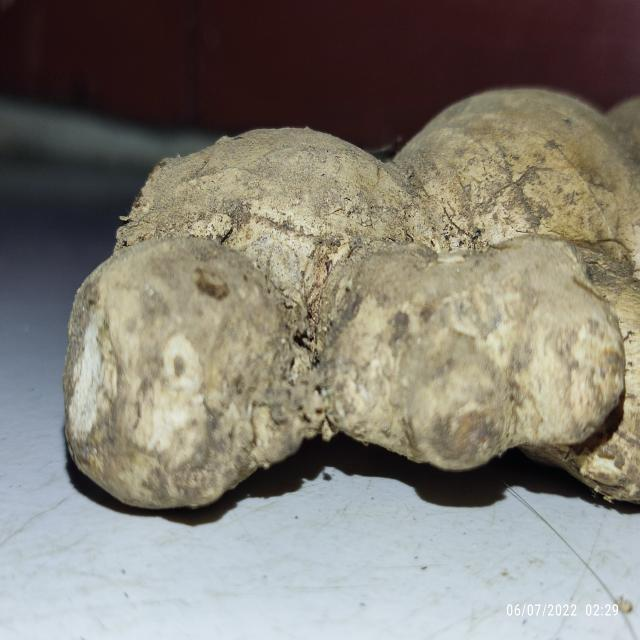ginger: (70, 85, 640, 502)
